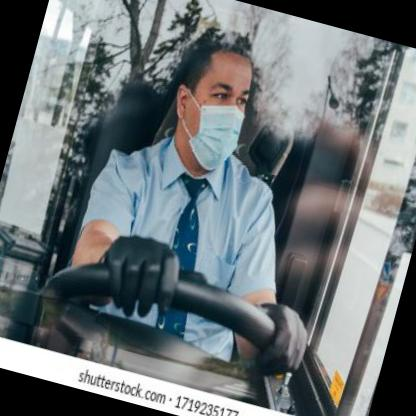Gloves: (91, 227, 187, 324), (242, 298, 314, 384)
